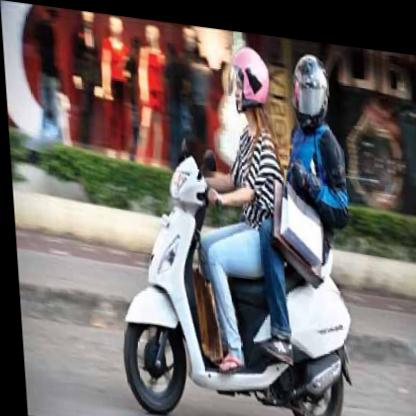With Helmet: (227, 36, 275, 112)
